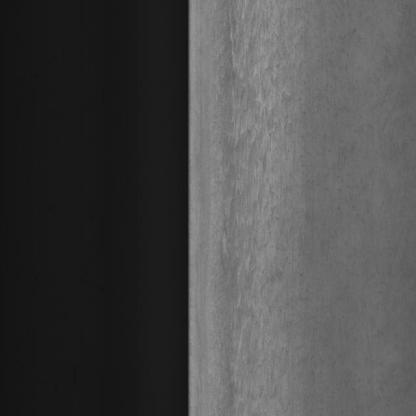silk_spot: (214, 14, 301, 390)
